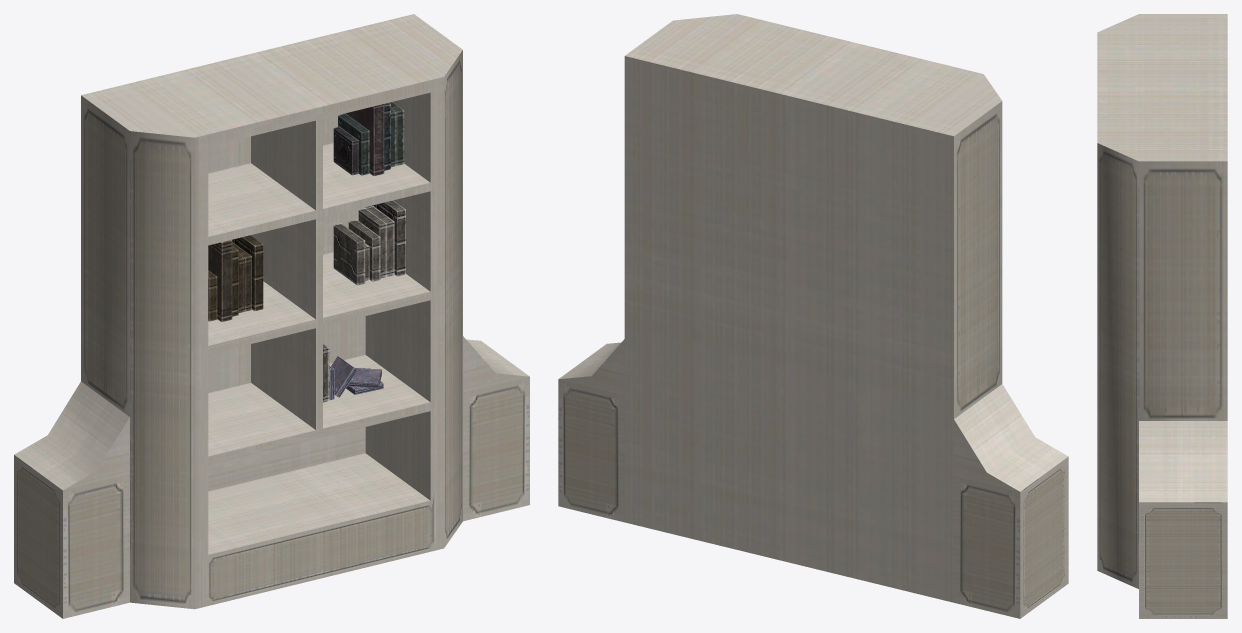
The model's file is frn_all_eleg_bookcase_s01_l0.fbx.
3 views of the same model, side by side, from view 1: azimuth 30°, elevation 25°; view 2: azimuth 150°, elevation 25°; view 3: azimuth 270°, elevation 25° (orthographic). The views are drawn at different scales.
Visible parts, largest first — view 1: mesh_node; view 2: mesh_node; view 3: mesh_node.
Part boxes in pixels (left/top/right/bottom): mesh_node: left=14, top=14, right=529, bottom=618; mesh_node: left=558, top=14, right=1068, bottom=618; mesh_node: left=1097, top=14, right=1227, bottom=618.
Size of the model in its own units: 1.87 by 1.8 by 0.4979.
